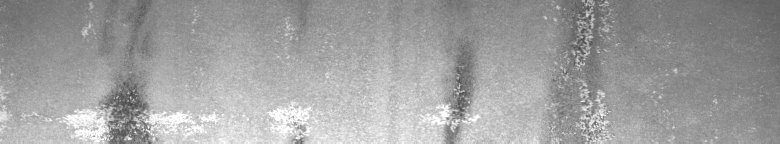hc: (83, 24, 160, 136)
